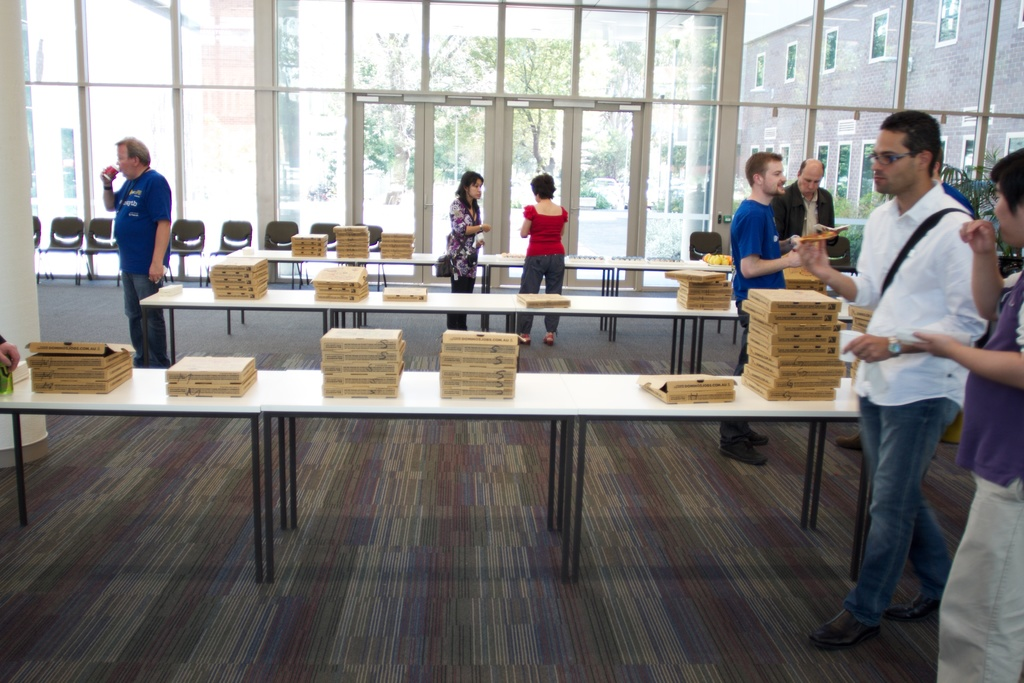Table: (313, 325, 887, 603), (0, 349, 299, 580), (129, 287, 740, 374), (234, 242, 703, 328)
